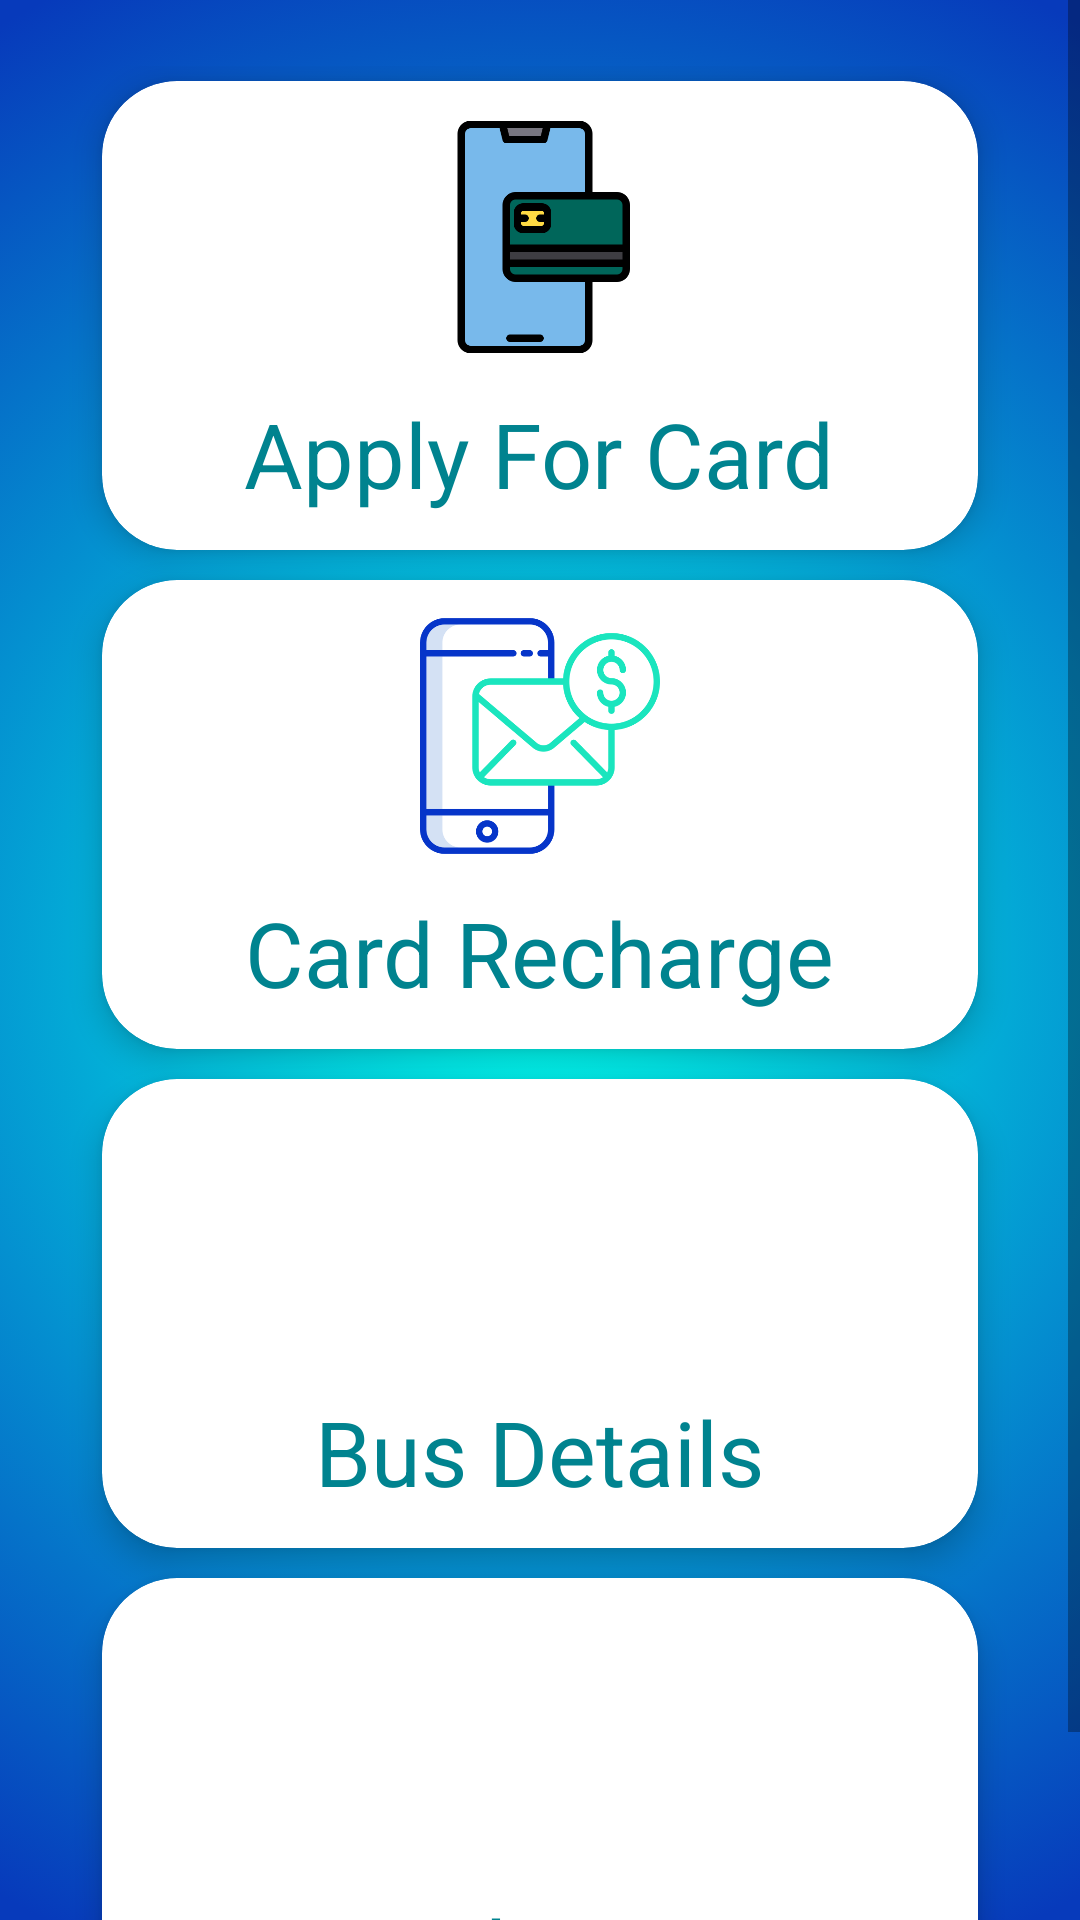

Where to tap for icons on this 1080px x 1920px app screen, as (x=x, y=y):
applycard: (x=543, y=237)
